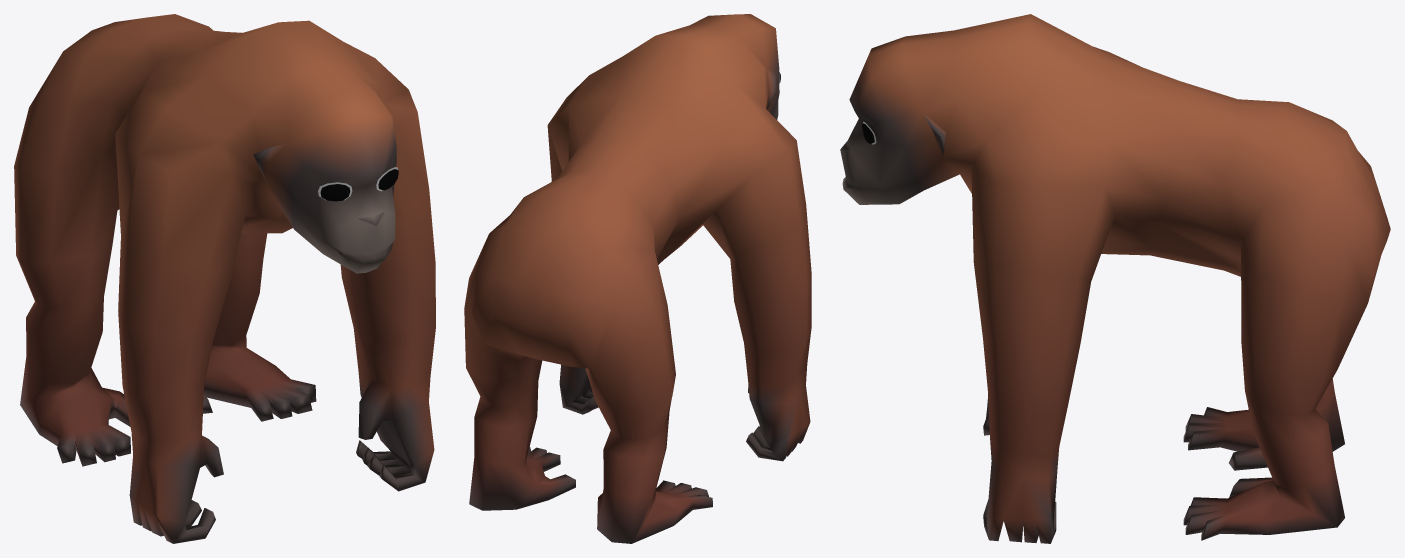
The picture shows the model from 3 angles, left to right: view 1: azimuth 30°, elevation 25°; view 2: azimuth 150°, elevation 25°; view 3: azimuth 270°, elevation 25°; orthographic projection. The views are drawn at different scales.
Parts seen in each view (by area): view 1: alt594; view 2: alt594; view 3: alt594.
Part boxes in pixels (box(x1,y1,x2,y2)): alt594: box(14, 14, 435, 543); alt594: box(464, 14, 811, 543); alt594: box(840, 14, 1390, 543).
Bounding box in the file's own units: 0.3098 × 0.4597 × 0.5.
